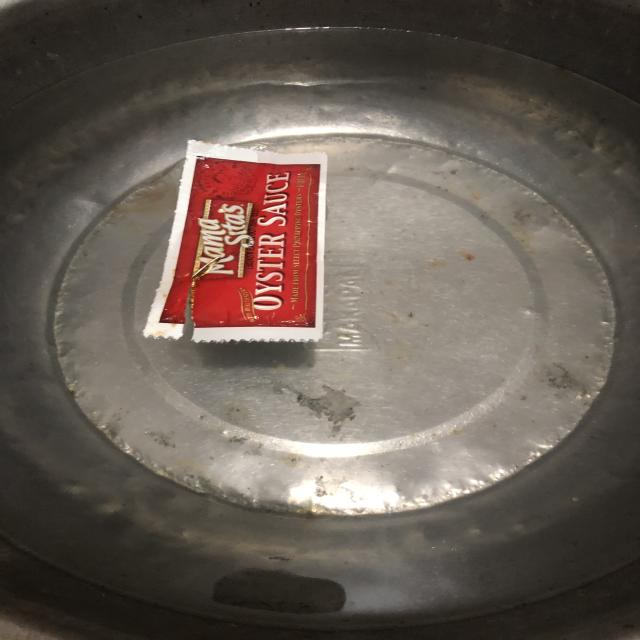Plastic Wrapper: (129, 127, 356, 376)
